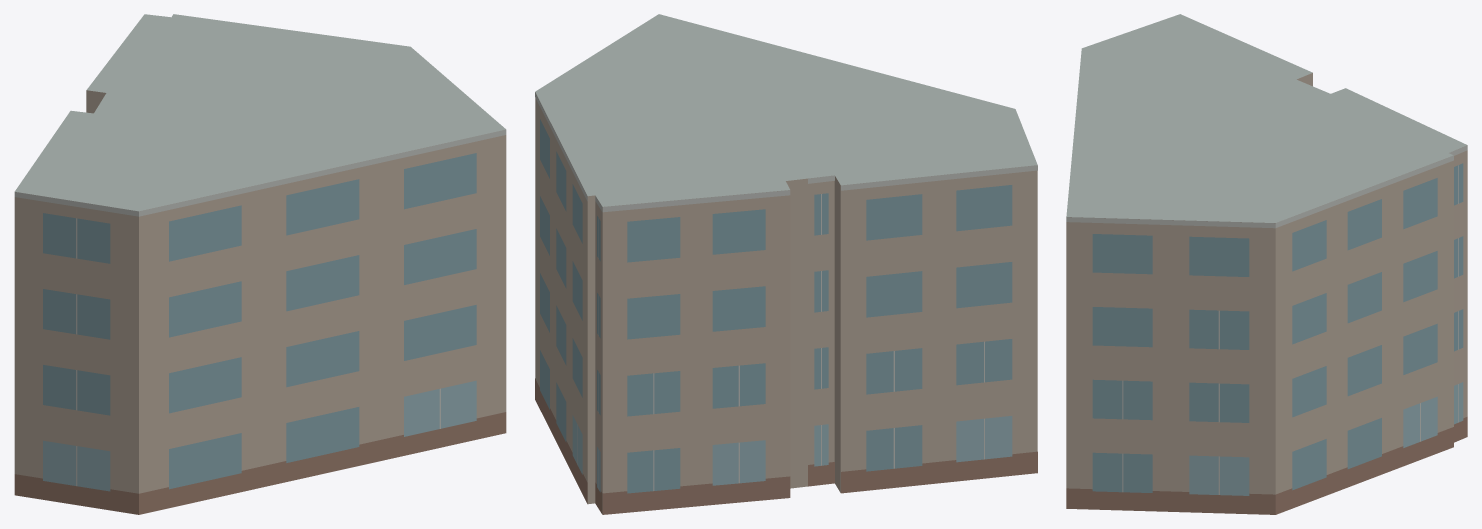
File: survey-upis-32664942.glb
3 renders of one model, left to right at view 1: azimuth 30°, elevation 25°; view 2: azimuth 150°, elevation 25°; view 3: azimuth 270°, elevation 25°, orthographic. The views are drawn at different scales.
Parts seen in each view (by area): view 1: survey-upis-32664942.tmp; view 2: survey-upis-32664942.tmp; view 3: survey-upis-32664942.tmp.
Part boxes in pixels (x1,y1,x2,y2): survey-upis-32664942.tmp: [14, 14, 506, 514]; survey-upis-32664942.tmp: [535, 14, 1037, 514]; survey-upis-32664942.tmp: [1066, 14, 1467, 514].
Bounding box in the file's own units: 21.45 × 13.95 × 17.39.
